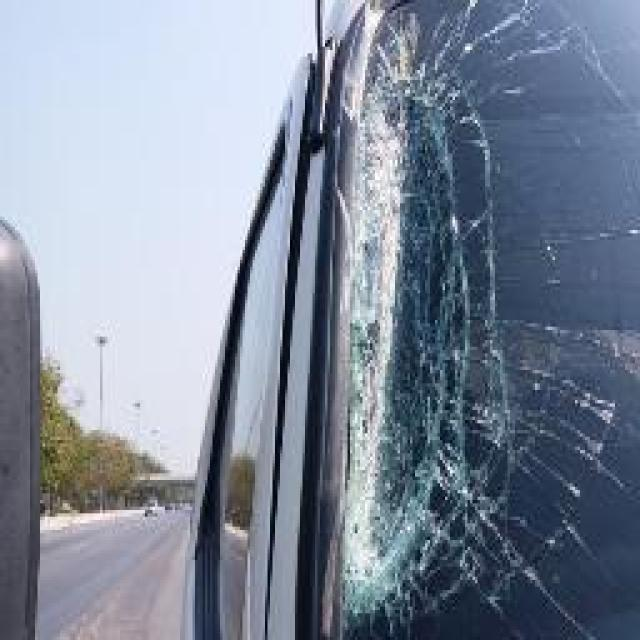Windshield: (328, 3, 640, 640)
